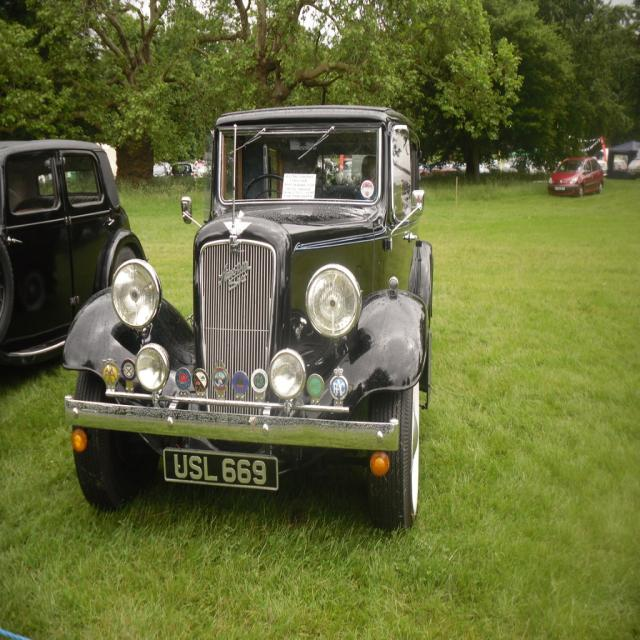car: (62, 100, 436, 528), (543, 151, 604, 199)
